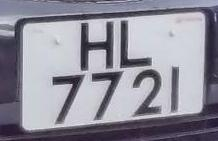1: (163, 61, 188, 119)
2: (128, 65, 167, 119)
7: (84, 68, 131, 124), (48, 70, 88, 130)
H: (77, 18, 120, 73)
L: (116, 14, 158, 72)
